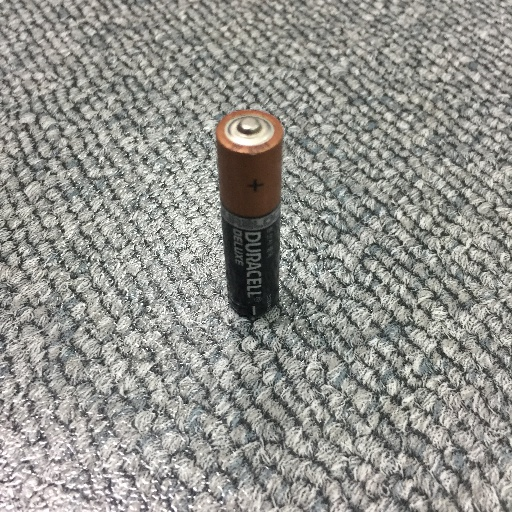Battery_0: (202, 100, 307, 329)
